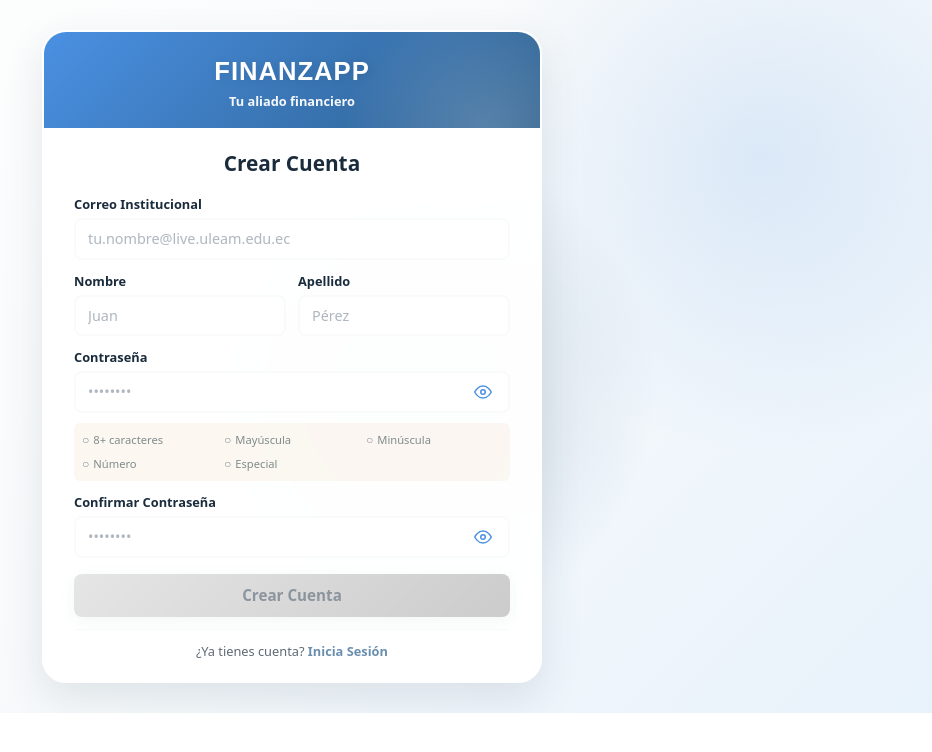
Test: Register.vue › Valida que el correo sea del dominio institucional
The width and height of the screenshot is (932, 752).
Note: Probar con email inválido
Type "test@gmail.com" into the field labelled "Correo Institucional" at [292, 239], box top-left (74, 218), bottom-right (510, 260)
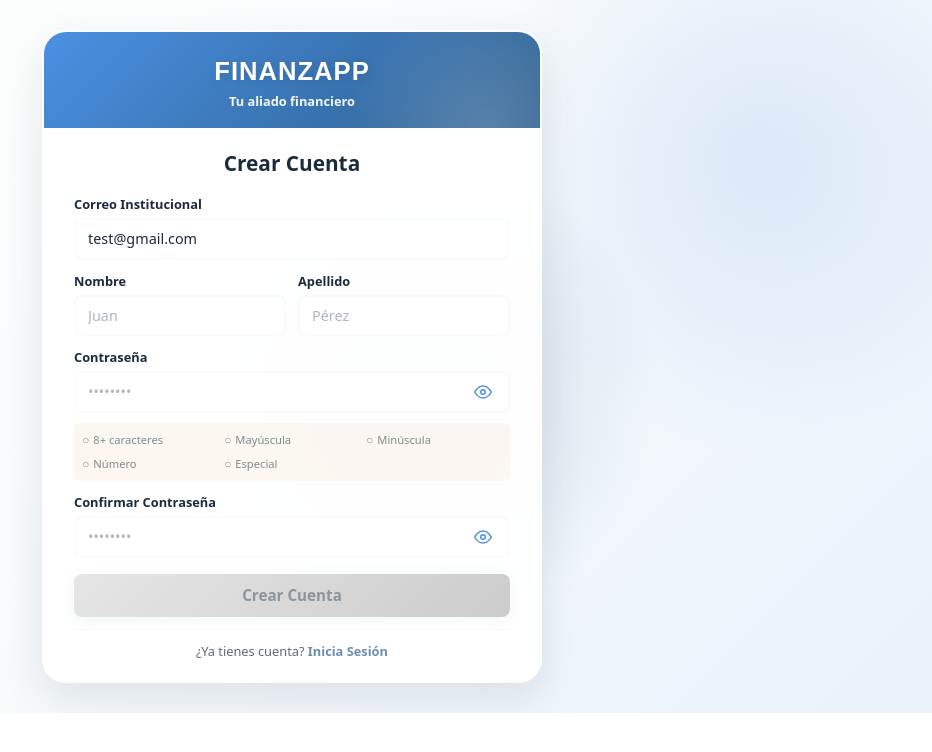
Leave the field labelled "Correo Institucional", box top-left (74, 218), bottom-right (510, 260)
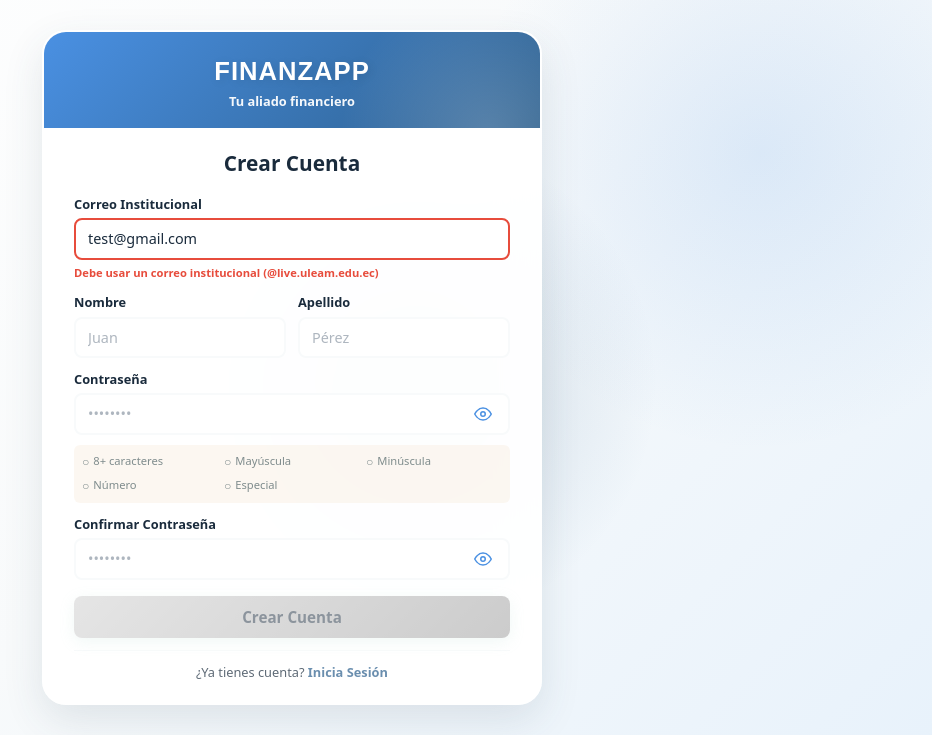
Expected: the text "@live.uleam.edu.ec" is shown, top-left (74, 264), bottom-right (379, 280)
